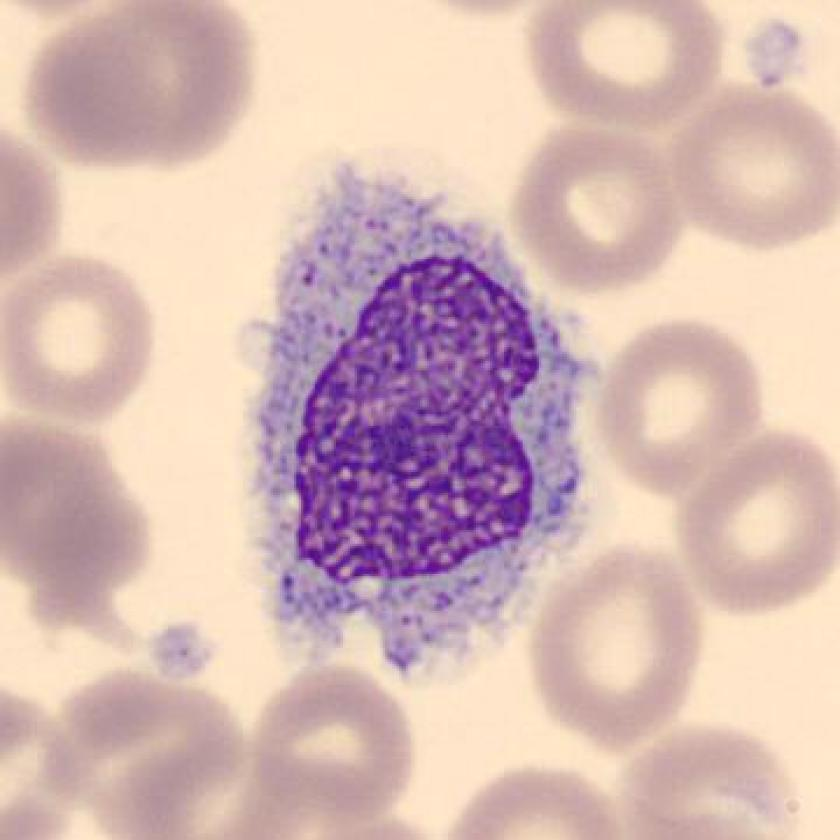monocyte: (213, 129, 631, 705)
